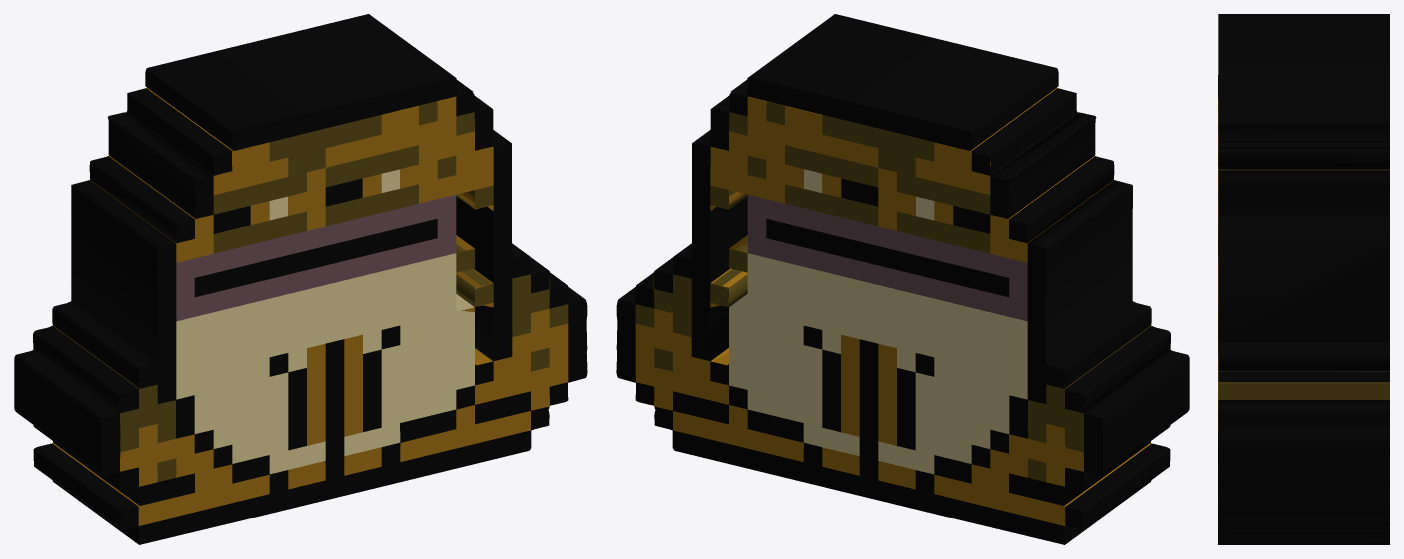
The model's file is Toadz_2944.glb.
3 renders of one model, left to right at view 1: azimuth 30°, elevation 25°; view 2: azimuth 150°, elevation 25°; view 3: azimuth 270°, elevation 25°, orthographic.
Parts seen in each view (by area): view 1: Curve; view 2: Curve; view 3: Curve.
Boxes of the visible parts, box(x1,y1,x2,y2) form: Curve: box(14, 14, 587, 544); Curve: box(616, 14, 1189, 544); Curve: box(1218, 14, 1389, 544).
Size of the model in its own units: 3.24 by 2.49 by 1.
